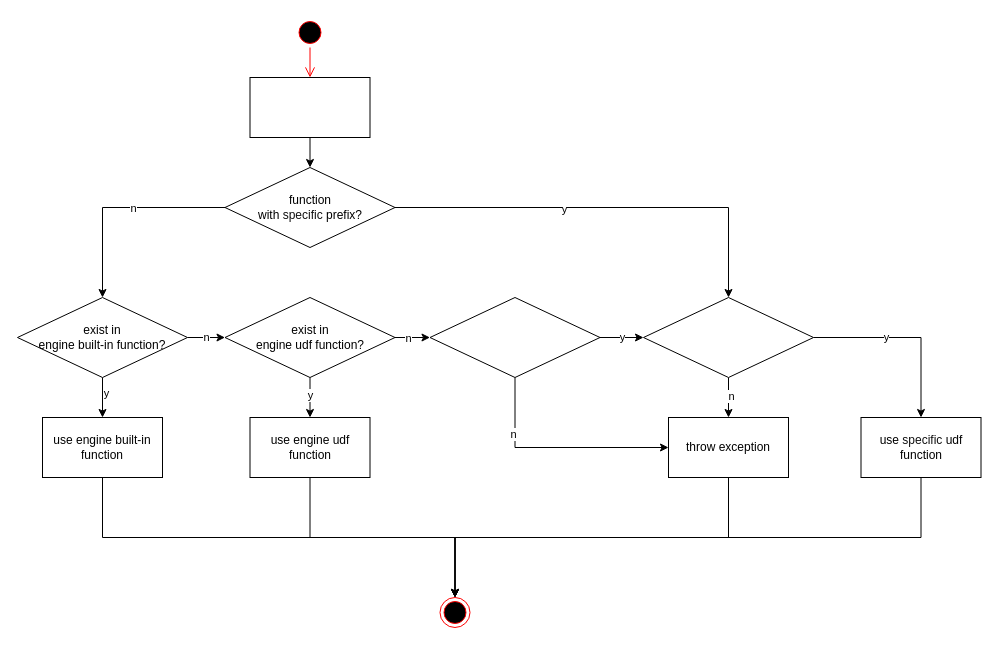
Some shapes in this 999 by 645 pixel diagram are drawn without their labels. The shapes that lost their labels are listed below. From the top down, each one's centre as x and y in pixels, then its label:
At point (309, 107): "search function".
At point (514, 337): "specific function enable?".
At point (728, 337): "exist in specific udf function?".
